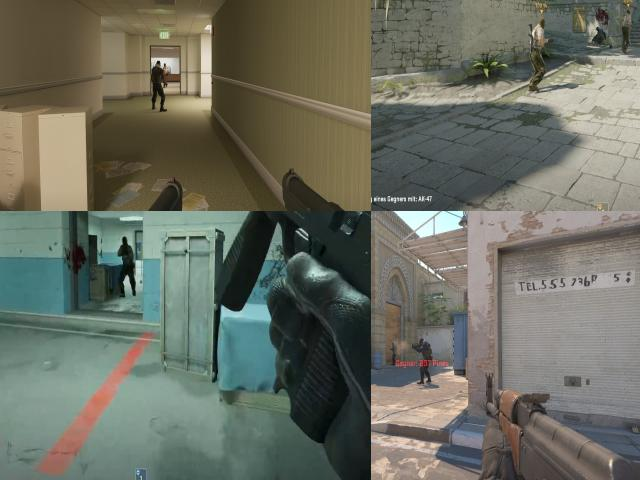CT: (417, 338, 432, 381), (152, 60, 164, 112), (391, 342, 397, 365)
CT-Head: (154, 61, 160, 72), (420, 338, 424, 344), (392, 342, 394, 346)
Dead: (590, 22, 609, 49)
T: (527, 17, 551, 92), (118, 234, 136, 284), (621, 6, 634, 58), (163, 64, 167, 86)
T-Head: (119, 236, 130, 249), (538, 18, 548, 31), (624, 8, 632, 16), (164, 64, 166, 67)
